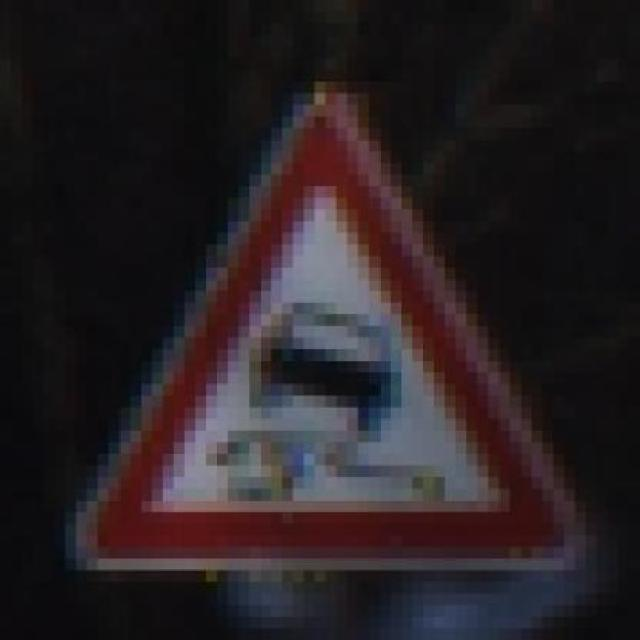Slippery Road Ahead: (43, 81, 597, 582)
